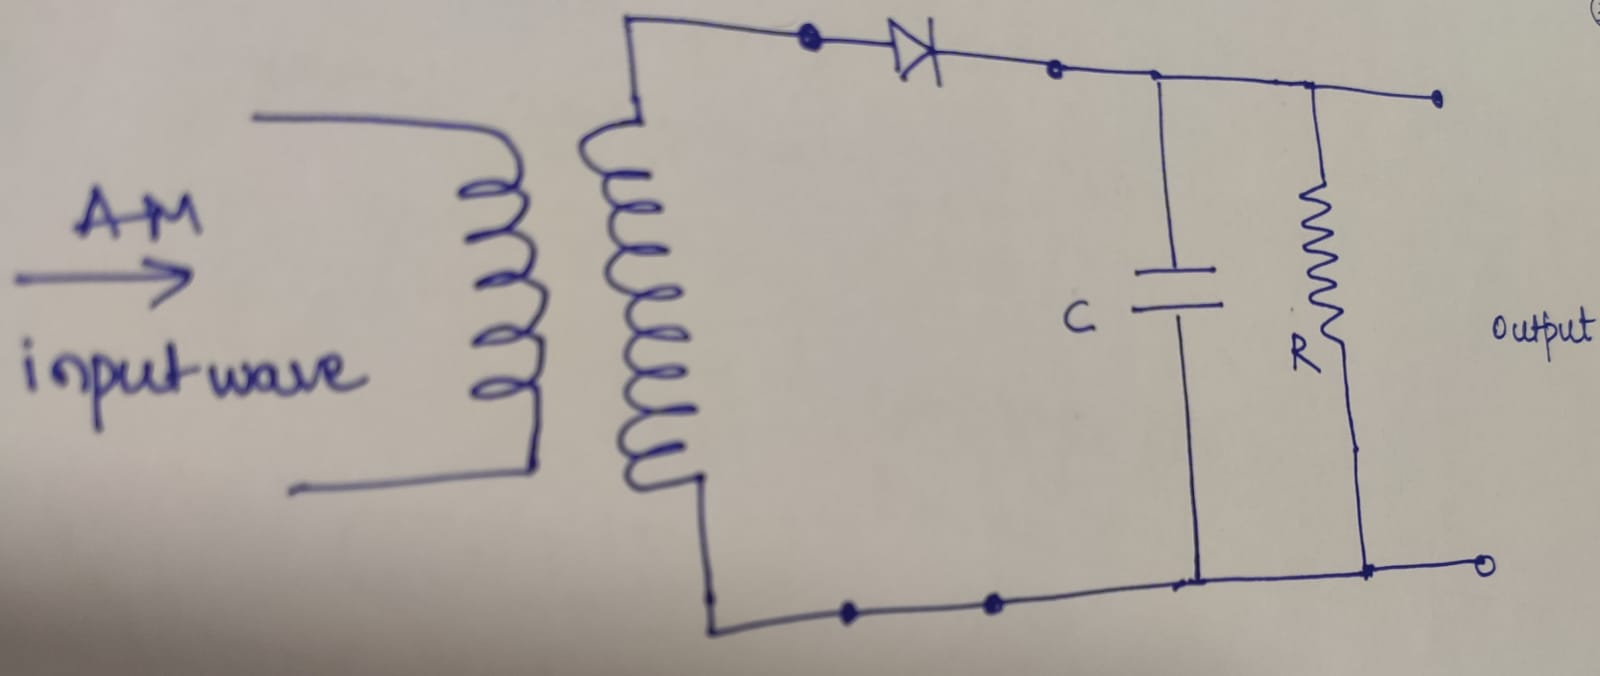capacitor.unpolarized: (1122, 259, 1227, 323)
diode: (883, 16, 945, 86)
junction: (791, 22, 829, 57), (833, 597, 863, 632), (614, 4, 646, 37), (1038, 55, 1069, 86), (978, 589, 1008, 620), (699, 620, 727, 648), (1185, 570, 1218, 592), (1352, 558, 1383, 582), (1145, 63, 1169, 90), (1297, 76, 1326, 98)
resistor: (1296, 180, 1347, 345)
terminal: (240, 99, 278, 137), (279, 476, 310, 508), (1466, 548, 1497, 579), (1423, 84, 1451, 115)
text: (8, 172, 373, 443), (1487, 305, 1600, 365), (1287, 329, 1324, 377), (1060, 298, 1103, 337)
transformer: (452, 112, 721, 508)
